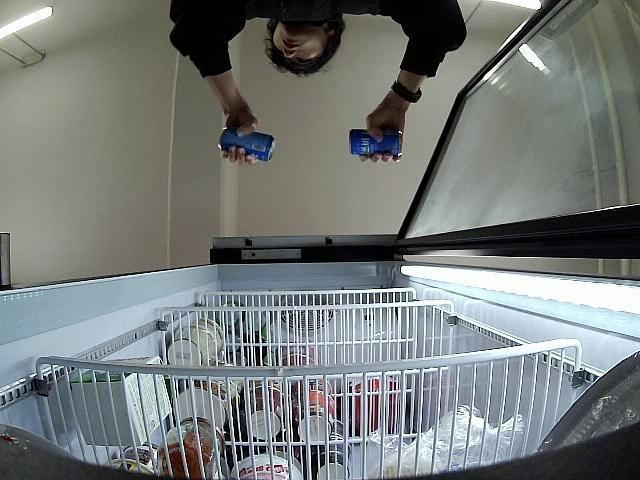15_letsbe: (218, 130, 274, 162), (349, 128, 404, 158)
